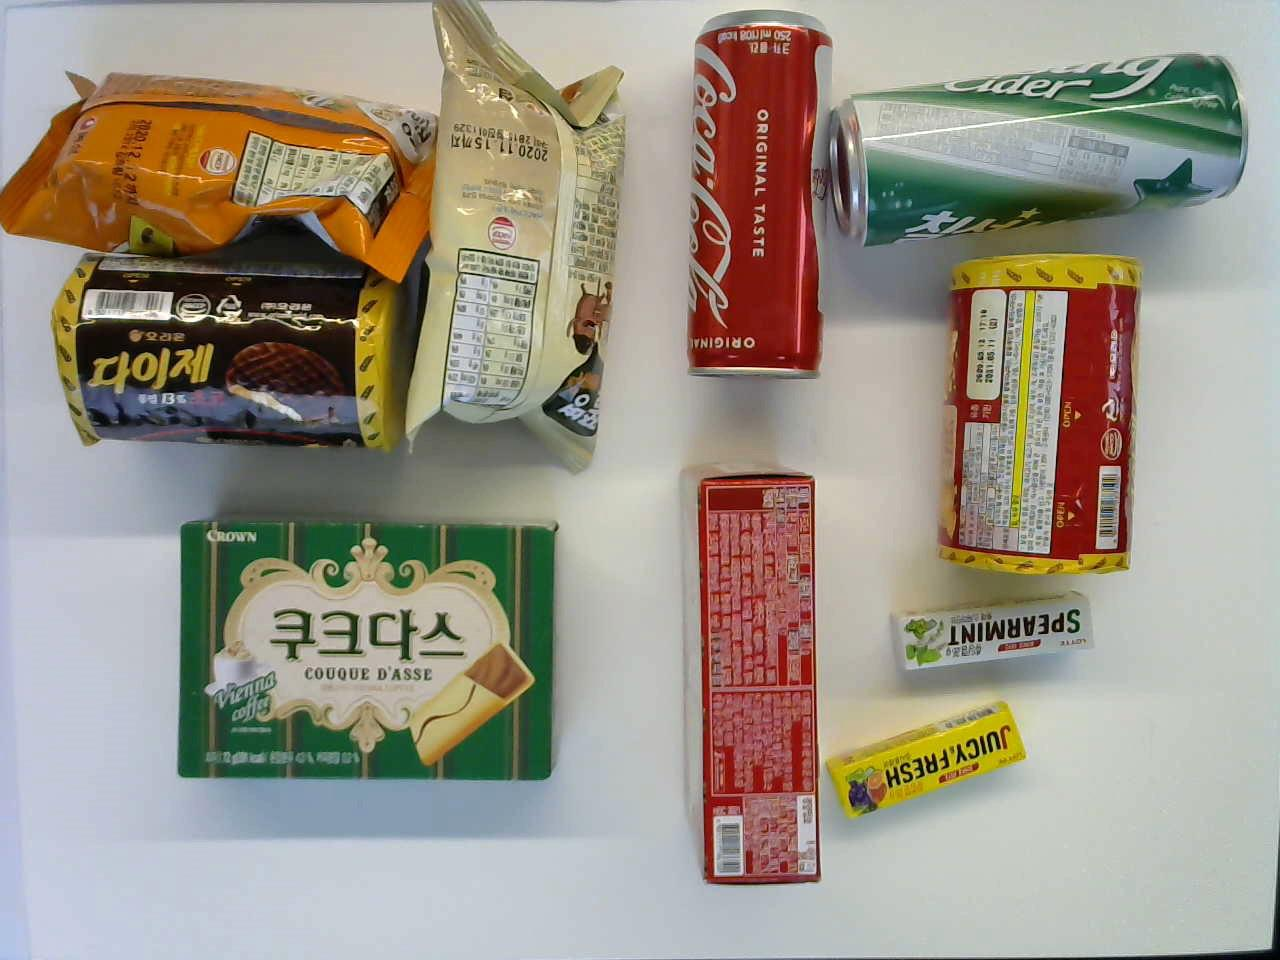cidar: (827, 48, 1252, 243)
coke: (687, 8, 829, 389)
couque_coffee: (172, 511, 563, 792)
couque_white: (673, 458, 829, 890)
diget_choco: (47, 242, 412, 448)
diget_ori: (931, 251, 1143, 579)
jjolbyung_noodle: (2, 64, 441, 288)
jjolbyung_ori: (422, 2, 631, 482), (47, 242, 412, 448)
juicyfresh: (822, 694, 1031, 830)
spearmint: (891, 581, 1102, 673)
